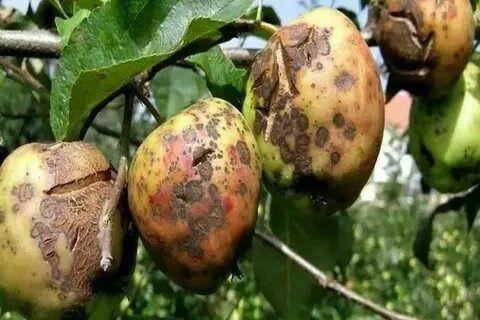Apple: (245, 8, 386, 194), (130, 93, 262, 275)
